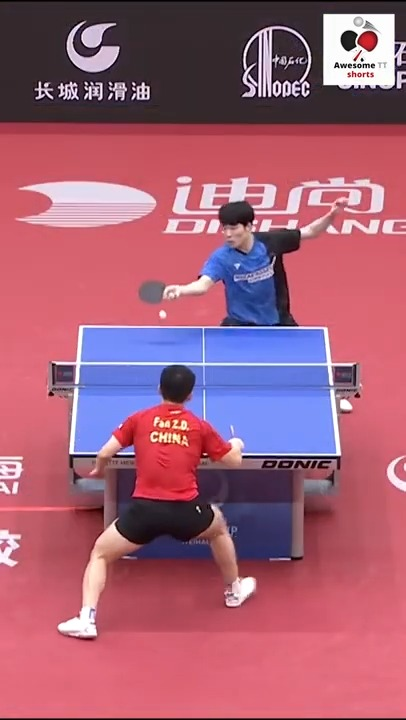Ball: (157, 310, 169, 321)
